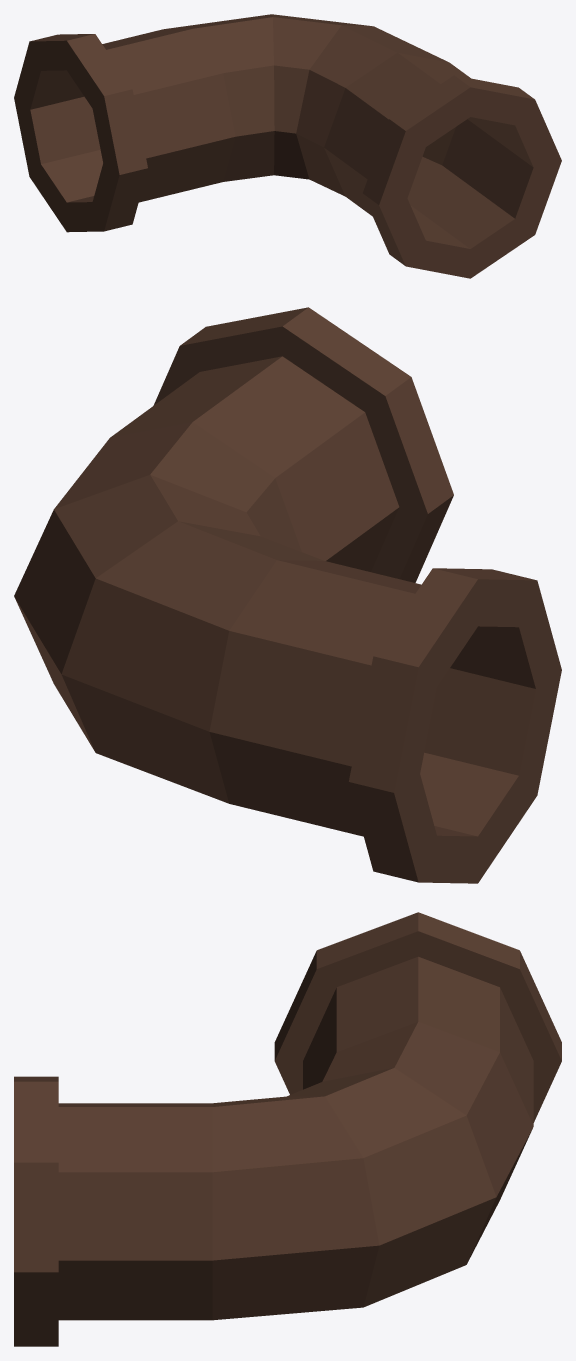
The model's file is Pipeline1.fbx.
The picture shows the model from 3 angles, top to bottom: view 1: azimuth 30°, elevation 25°; view 2: azimuth 150°, elevation 25°; view 3: azimuth 270°, elevation 25°; orthographic projection. The views are drawn at different scales.
Visible parts, largest first — view 1: Circle.003; view 2: Circle.003; view 3: Circle.003.
Boxes of the visible parts, <box> form: Circle.003: <box>14,14,561,278</box>; Circle.003: <box>14,307,561,883</box>; Circle.003: <box>14,912,561,1346</box>.
Bounding box in the file's own units: 1.23 × 0.6482 × 1.24.
